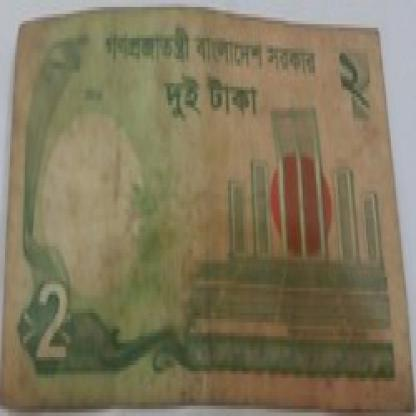two taka: (30, 277, 75, 364), (330, 48, 374, 125)
